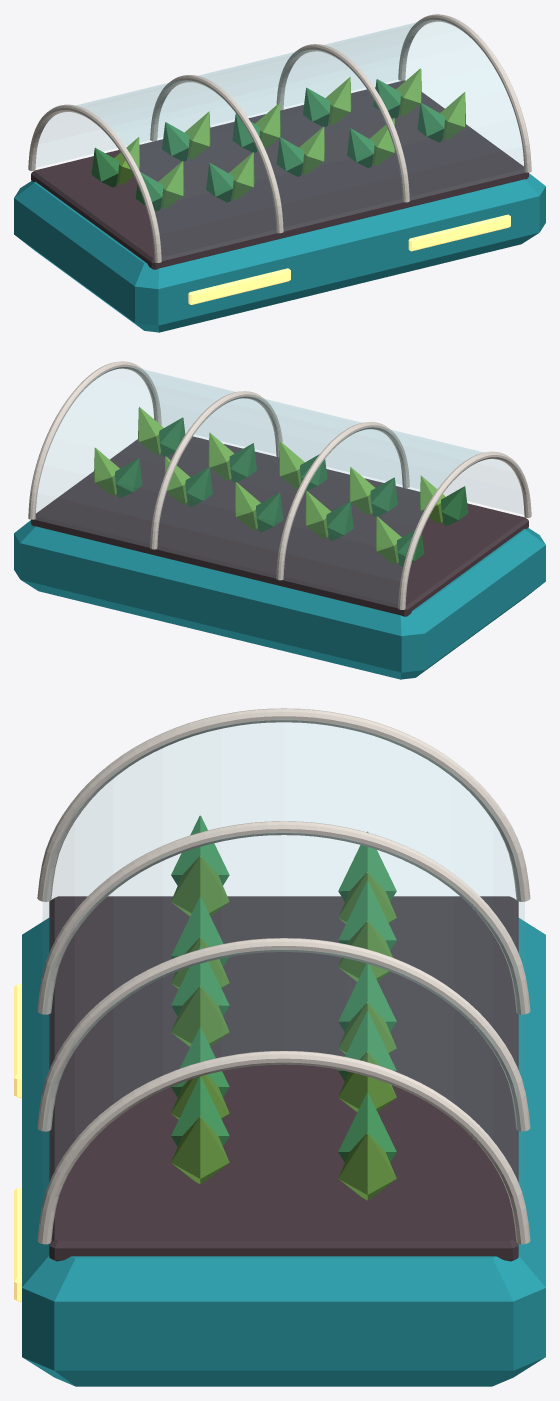
Rendered from jardin_lunar.glb.
The picture shows the model from 3 angles, top to bottom: view 1: azimuth 30°, elevation 25°; view 2: azimuth 150°, elevation 25°; view 3: azimuth 270°, elevation 25°; orthographic projection. The views are drawn at different scales.
Visible parts, largest first — view 1: Cubierta, Sustrato, Bandeja, _MeshInstance3D_88, Arco, _MeshInstance3D_86, _MeshInstance3D_87, LuzCultivo, _MeshInstance3D_89, _MeshInstance3D_71, _MeshInstance3D_73, _MeshInstance3D_85 (+17 smaller); view 2: Cubierta, Sustrato, Bandeja, Arco, _MeshInstance3D_86, _MeshInstance3D_88, _MeshInstance3D_87, _MeshInstance3D_71, _MeshInstance3D_81, _MeshInstance3D_73, _MeshInstance3D_85, _MeshInstance3D_67 (+15 smaller); view 3: Sustrato, Cubierta, Bandeja, _MeshInstance3D_86, _MeshInstance3D_87, Arco, _MeshInstance3D_88, _MeshInstance3D_85, _MeshInstance3D_83, _MeshInstance3D_77, _MeshInstance3D_69, _MeshInstance3D_82 (+16 smaller).
Boxes of the visible parts, x1,y1,x2,y2 form: Cubierta: [36, 19, 524, 260]; Sustrato: [31, 80, 528, 269]; Bandeja: [14, 173, 545, 332]; _MeshInstance3D_88: [398, 14, 531, 172]; Arco: [28, 104, 161, 262]; _MeshInstance3D_86: [150, 75, 283, 233]; _MeshInstance3D_87: [276, 44, 409, 202]; LuzCultivo: [188, 268, 290, 304]; _MeshInstance3D_89: [408, 214, 510, 251]; _MeshInstance3D_71: [184, 111, 210, 159]; _MeshInstance3D_73: [228, 152, 254, 200]; _MeshInstance3D_85: [440, 92, 465, 140]; Cubierta: [35, 366, 523, 607]; Sustrato: [31, 436, 528, 616]; Bandeja: [14, 520, 545, 679]; Arco: [398, 451, 531, 609]; _MeshInstance3D_86: [276, 422, 409, 580]; _MeshInstance3D_88: [28, 361, 161, 519]; _MeshInstance3D_87: [150, 391, 282, 549]; _MeshInstance3D_71: [305, 490, 331, 538]; _MeshInstance3D_81: [208, 432, 234, 480]; _MeshInstance3D_73: [349, 467, 374, 514]; _MeshInstance3D_85: [138, 406, 163, 454]; _MeshInstance3D_67: [375, 516, 401, 564]; Sustrato: [49, 896, 518, 1261]; Cubierta: [43, 719, 524, 1199]; Bandeja: [22, 918, 545, 1386]; _MeshInstance3D_86: [37, 821, 530, 1014]; _MeshInstance3D_87: [37, 938, 530, 1131]; Arco: [37, 708, 530, 901]; _MeshInstance3D_88: [37, 1051, 530, 1244]; _MeshInstance3D_85: [171, 1117, 229, 1184]; _MeshInstance3D_83: [338, 1133, 396, 1200]; _MeshInstance3D_77: [171, 986, 229, 1046]; _MeshInstance3D_69: [171, 856, 229, 916]; _MeshInstance3D_82: [338, 1092, 396, 1162].
Size of the model in its own units: 2.8 by 1.13 by 1.65.
